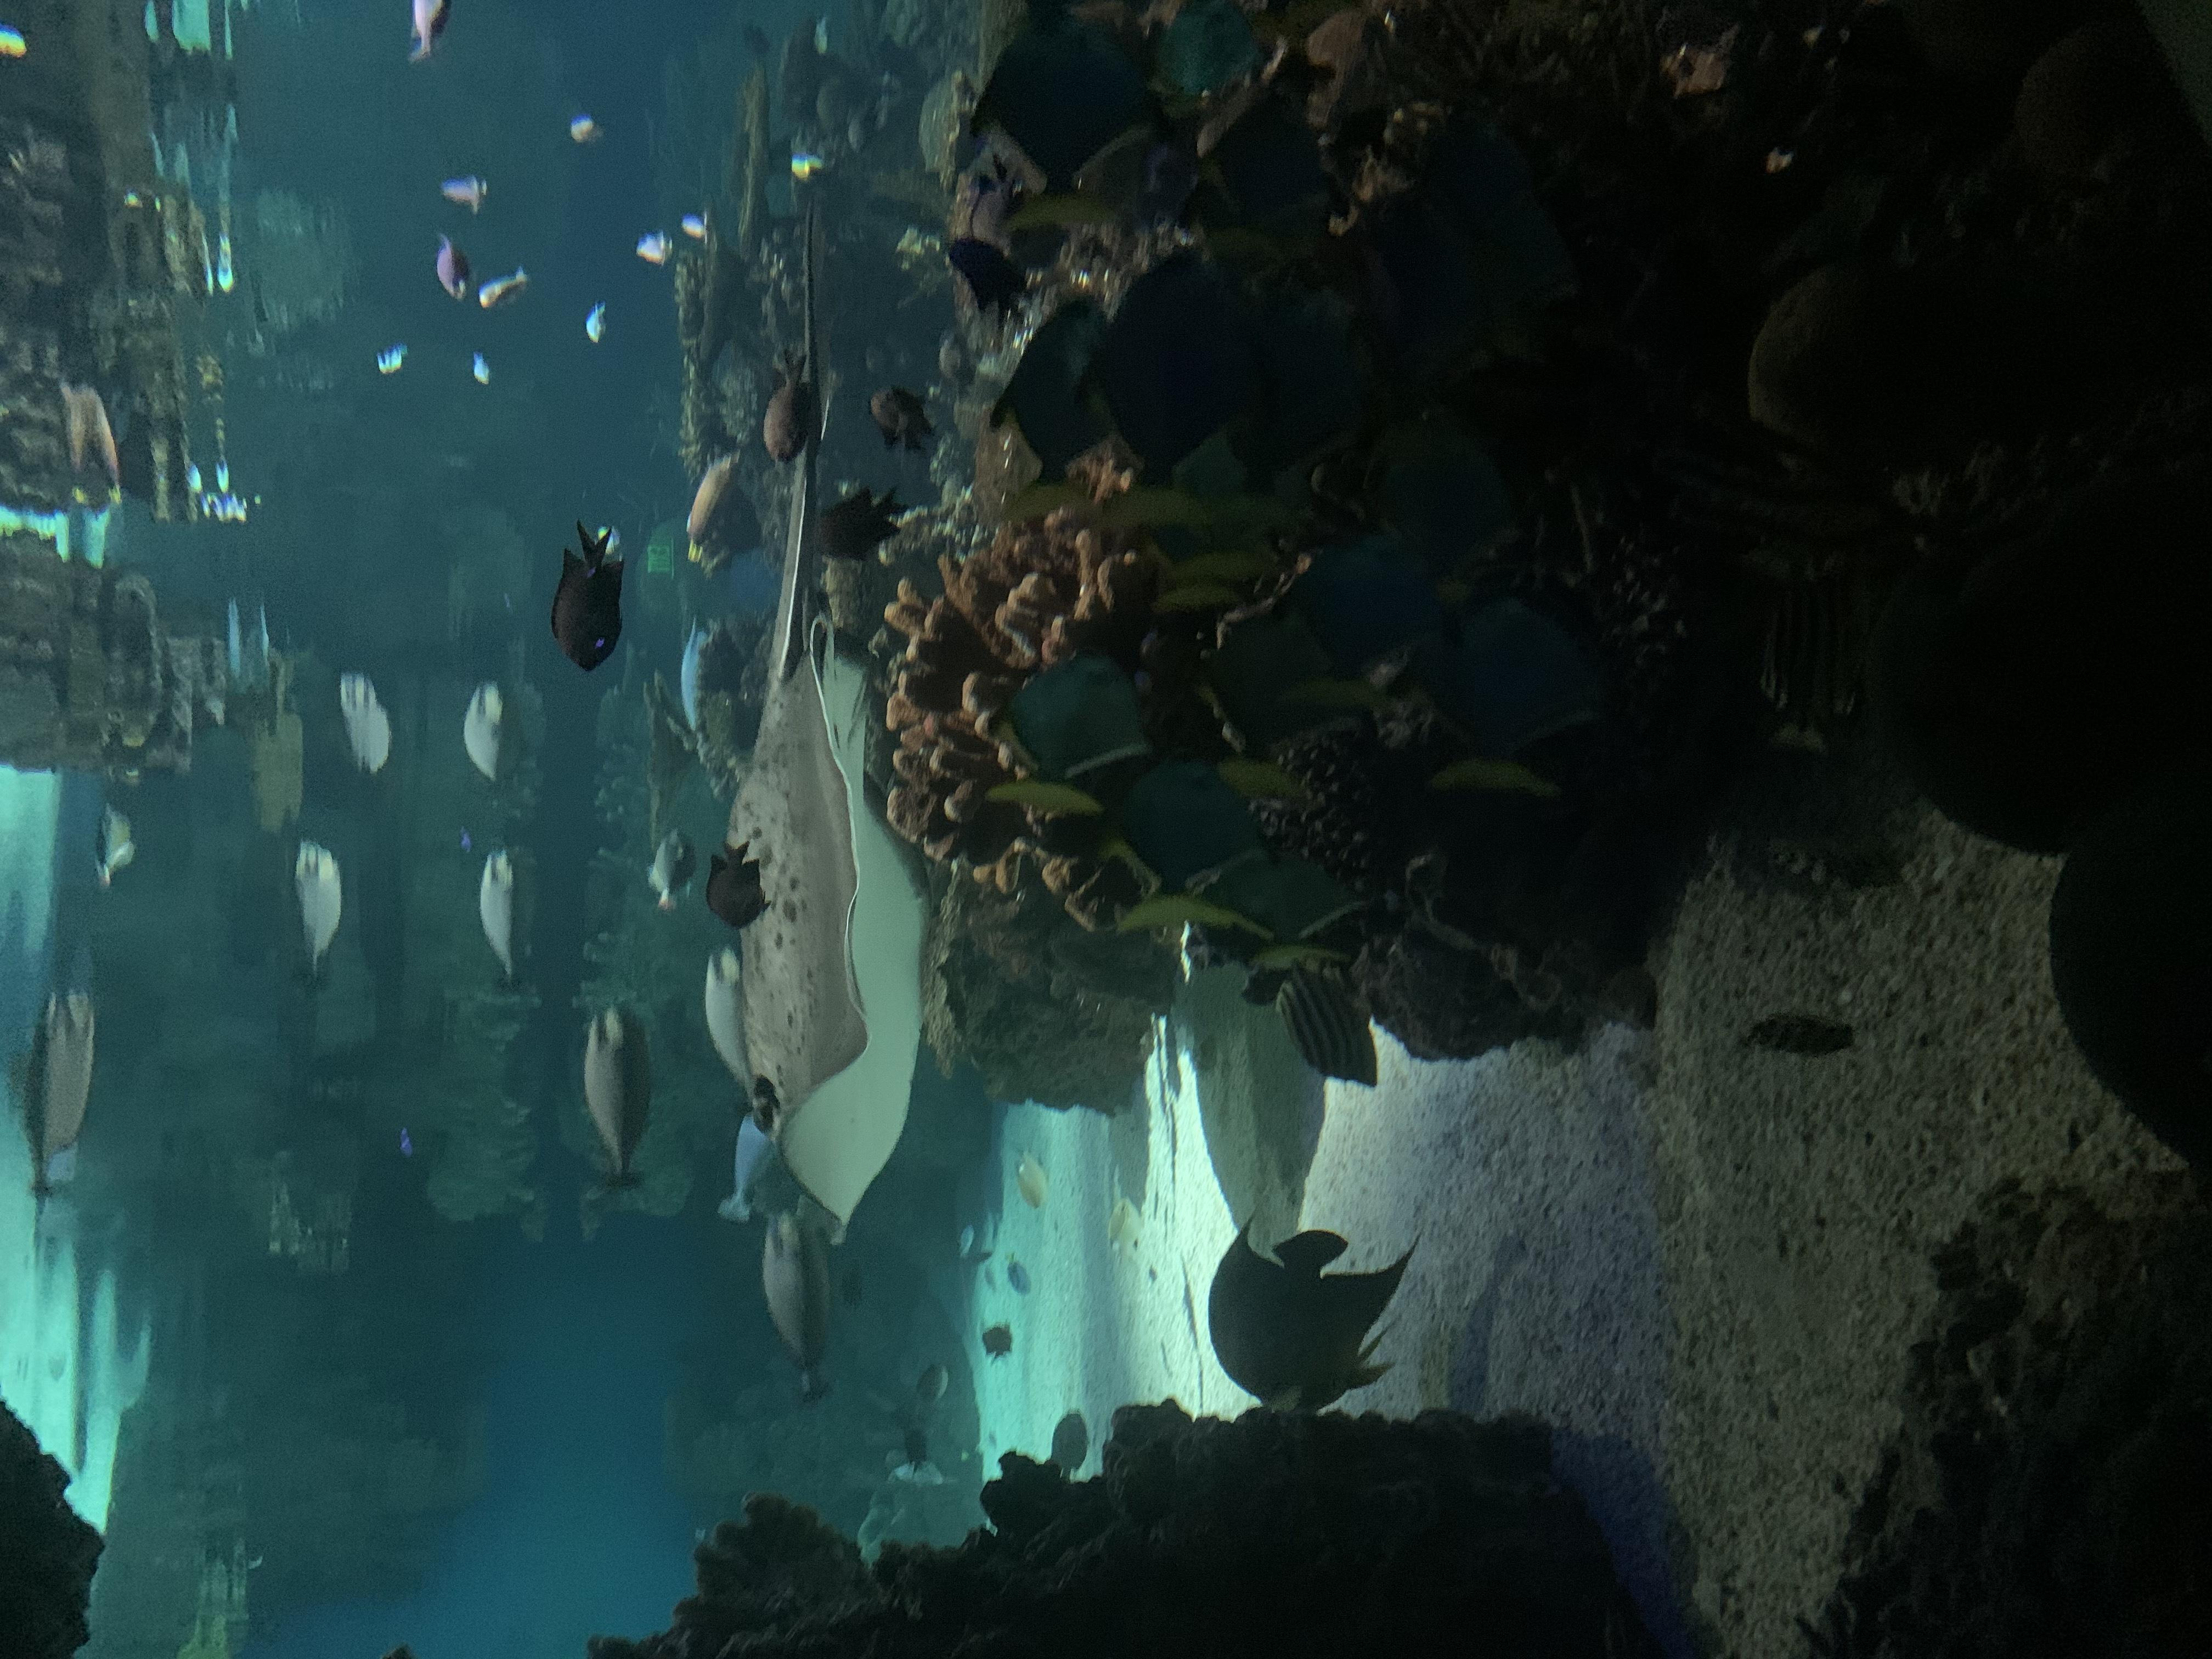fish: (1409, 563, 1623, 803), (1193, 1209, 1428, 1427), (965, 0, 1172, 235), (1080, 235, 1264, 497), (1270, 523, 1470, 720), (1090, 739, 1277, 946), (1226, 253, 1372, 507), (1191, 599, 1350, 803), (1372, 392, 1526, 592), (982, 645, 1151, 817), (1740, 559, 1867, 765), (982, 293, 1111, 493), (1202, 826, 1366, 965), (16, 985, 105, 1206), (745, 1199, 843, 1399), (575, 997, 662, 1190), (1280, 960, 1392, 1096), (549, 525, 632, 674), (674, 439, 754, 570), (470, 836, 538, 986), (942, 225, 1036, 333), (698, 943, 765, 1091), (676, 617, 738, 765), (291, 840, 352, 981), (334, 662, 401, 788), (721, 1091, 784, 1220), (817, 484, 914, 566), (1738, 1002, 1855, 1065), (700, 835, 773, 932), (458, 673, 519, 788), (758, 345, 812, 450), (643, 824, 698, 924), (96, 793, 145, 899), (867, 380, 939, 451), (890, 1417, 953, 1492), (1010, 1131, 1054, 1209), (1045, 1410, 1090, 1485), (409, 0, 460, 64), (437, 169, 498, 218), (434, 230, 474, 301), (1106, 1194, 1146, 1265), (475, 265, 535, 312), (914, 1354, 953, 1413), (374, 343, 420, 385), (632, 228, 678, 267), (1005, 1249, 1035, 1305), (566, 110, 604, 150), (582, 300, 611, 350), (979, 1201, 1000, 1263), (953, 1218, 979, 1260), (472, 345, 496, 387), (681, 213, 711, 244), (2085, 1307, 2087, 1309)
stingray: (712, 617, 860, 1143)
